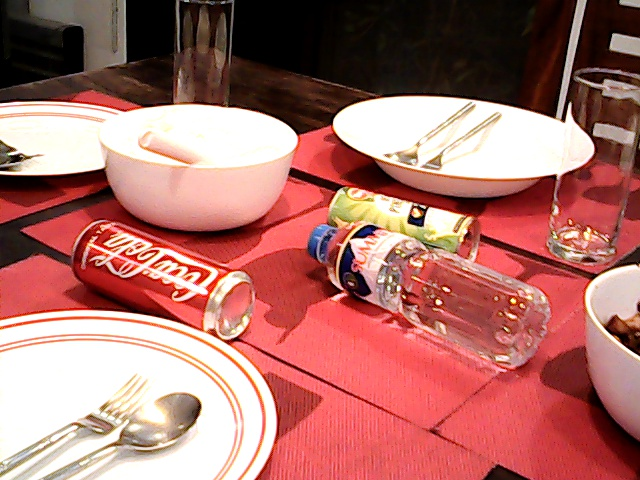Cola: (70, 209, 261, 340)
Pine Juice: (325, 168, 486, 233)
Summit Water: (299, 222, 429, 293)
